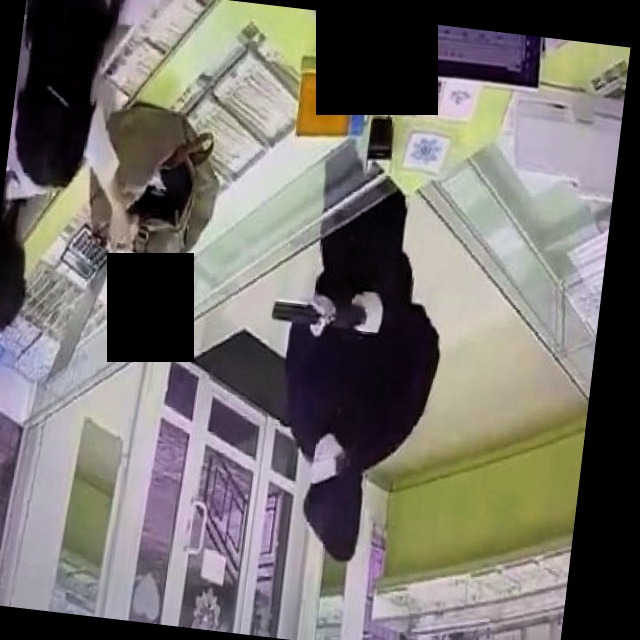gun: (261, 282, 377, 346)
